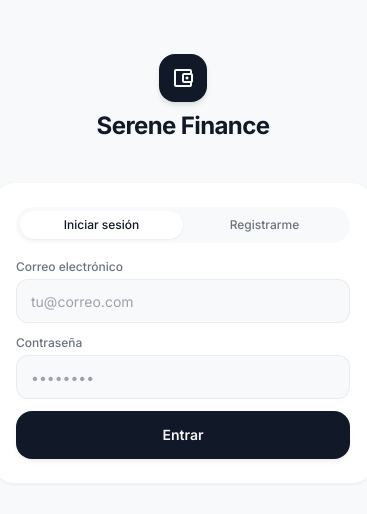
AuthScreen › cambia al modo de registro
The image size is (367, 514).
Click the button "Registrarme".
click(264, 225)  # box [183,211,346,239]
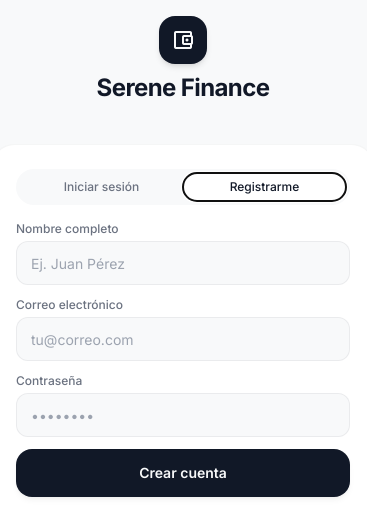
Expected: the field with placeholder "Ej. Juan Pérez" is shown, [16,241,350,285]
Expected: the button "Crear cuenta" is shown, [16,449,350,497]
